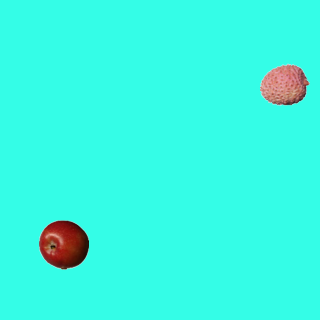Apple Braeburn: (38, 219, 88, 269)
Lychee: (259, 59, 309, 109)
